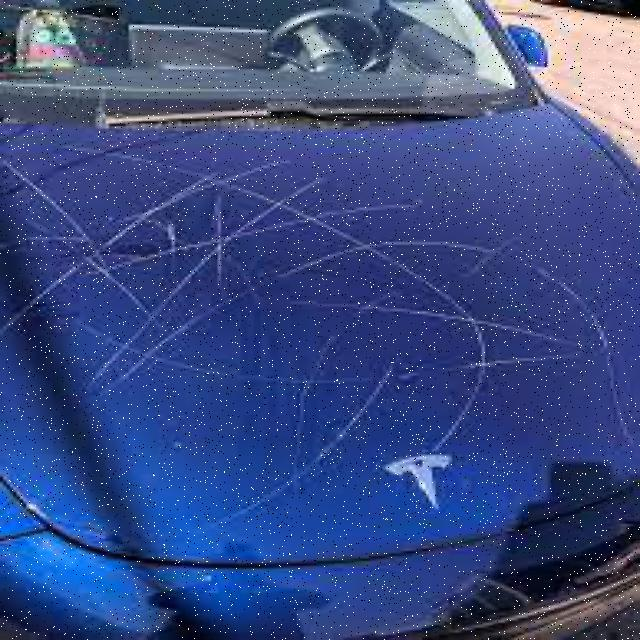bonnet-dent: (0, 124, 416, 638), (287, 119, 636, 638)
